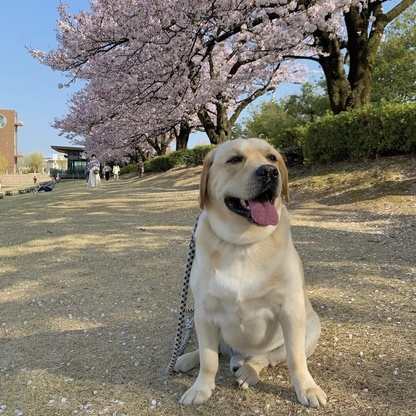labrado: (168, 136, 335, 408)
